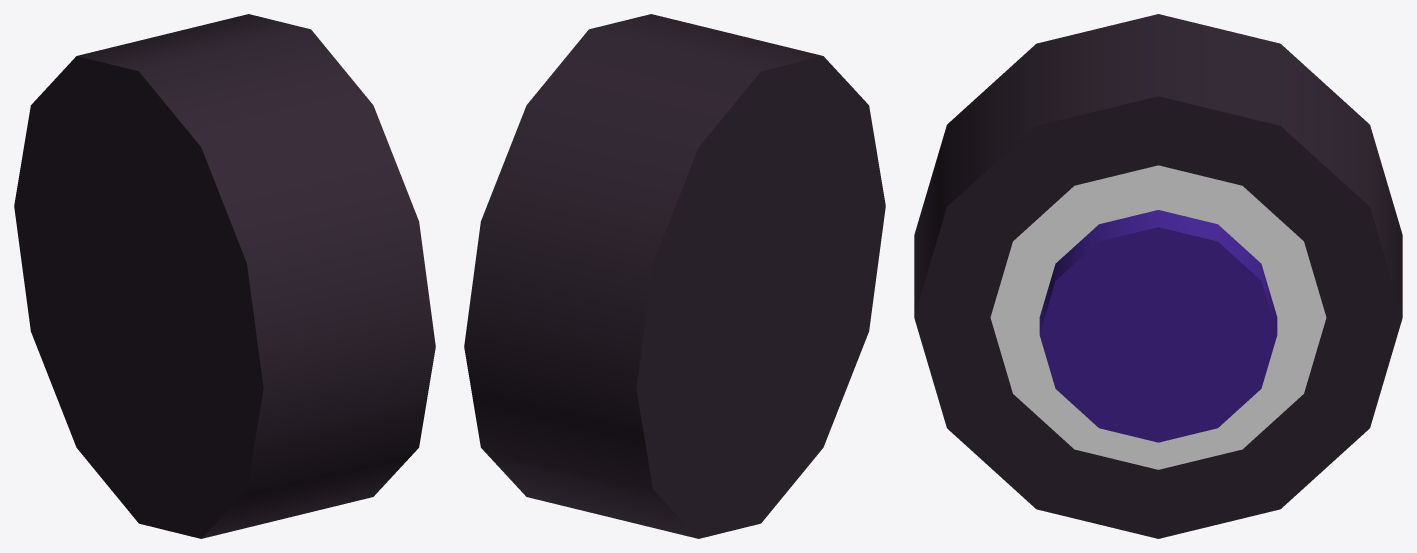
The model's file is GommaSinistra.fbx.
The picture shows the model from 3 angles, left to right: view 1: azimuth 30°, elevation 25°; view 2: azimuth 150°, elevation 25°; view 3: azimuth 270°, elevation 25°; orthographic projection. The views are drawn at different scales.
Visible parts, largest first — view 1: GommaSinistra; view 2: GommaSinistra; view 3: GommaSinistra.
Part boxes in pixels (<box>): GommaSinistra: <box>14,14,435,538</box>; GommaSinistra: <box>464,14,885,538</box>; GommaSinistra: <box>914,14,1402,538</box>.
Size of the model in its own units: 50.52 by 105 by 105.
